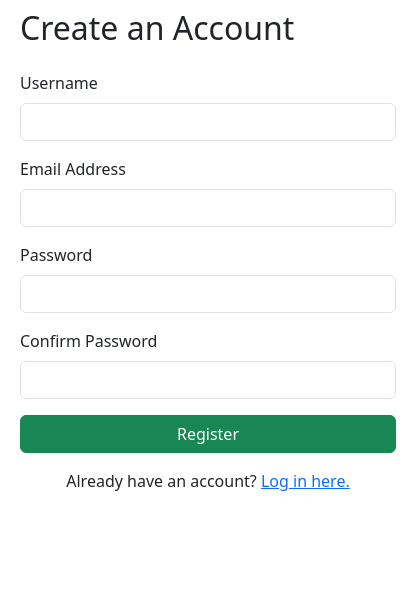
Test: Register Component › displays backend validation errors
The width and height of the screenshot is (417, 606).
Step 1. Type "existinguser" into the field labelled "Username" → (208, 122), box left=20, top=103, right=396, bottom=141
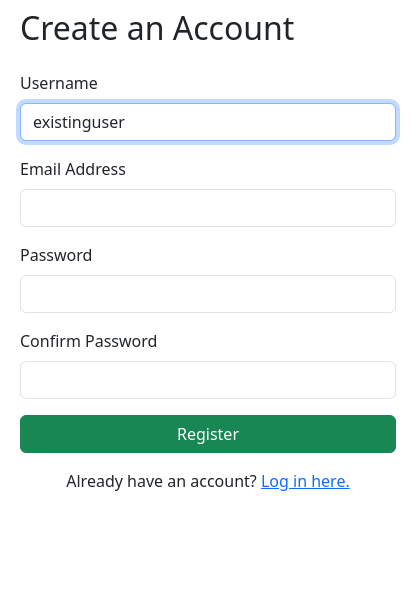
Step 2. Type "test@test.com" into the field labelled "Email Address" → (208, 208), box left=20, top=189, right=396, bottom=227
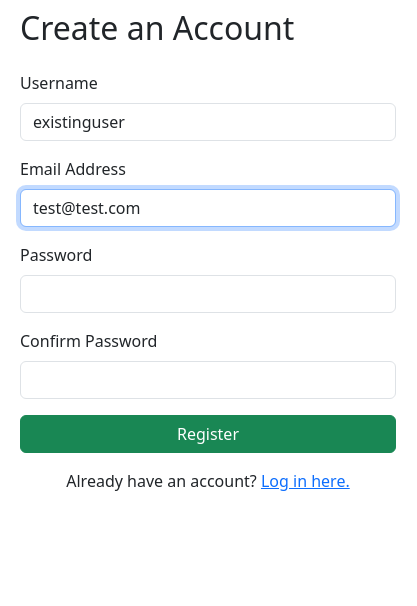
Step 3. Type "pass123" into the password field labelled "Password" → (208, 294), box left=20, top=275, right=396, bottom=313
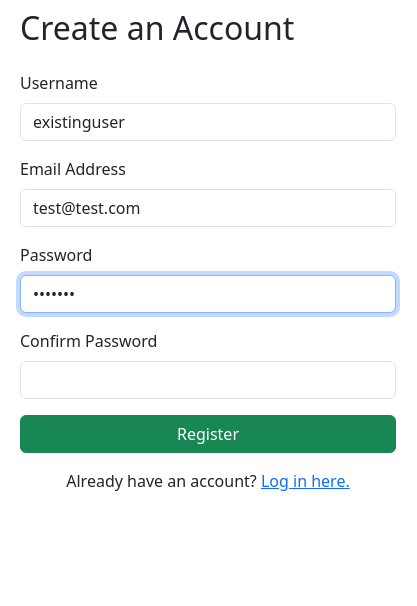
Step 4. Type "pass123" into the password field labelled "Confirm Password" → (208, 380), box left=20, top=361, right=396, bottom=399
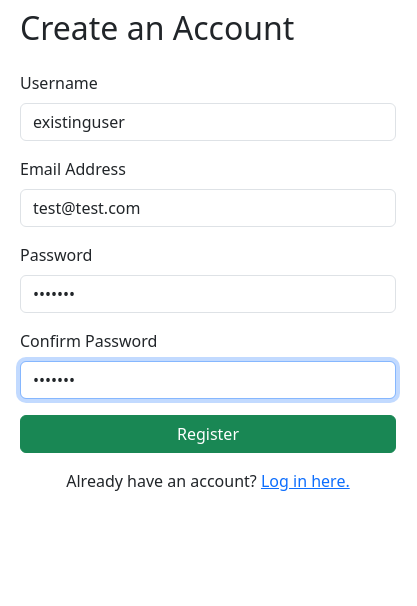
Step 5. Click the button "Register" → click(208, 434), box left=20, top=415, right=396, bottom=453
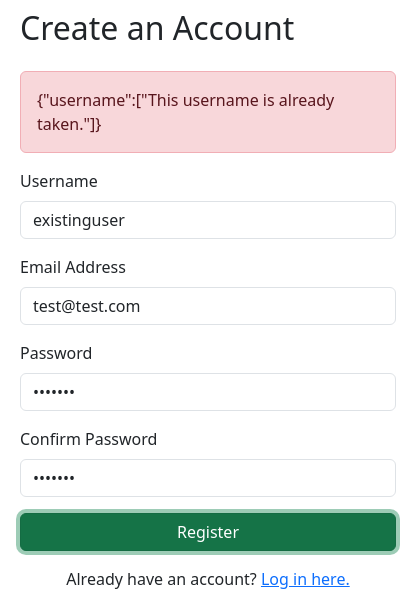
Now the message shows "This username is already taken.", box left=37, top=89, right=334, bottom=135
